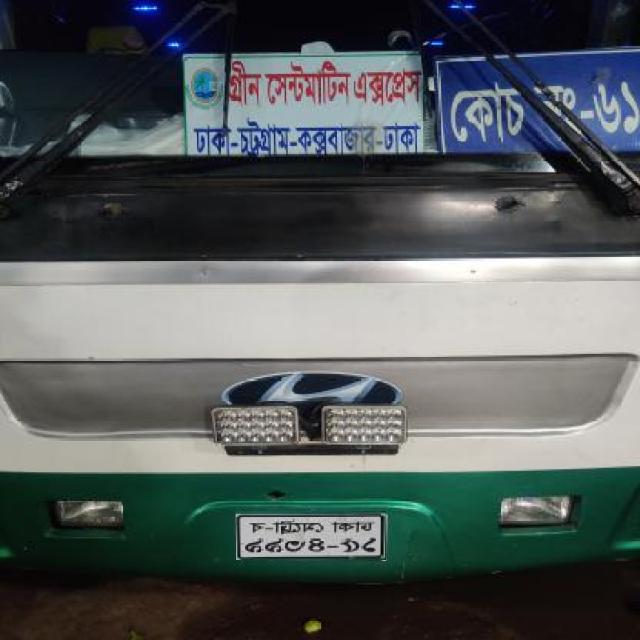numberplate: (236, 511, 386, 560)
